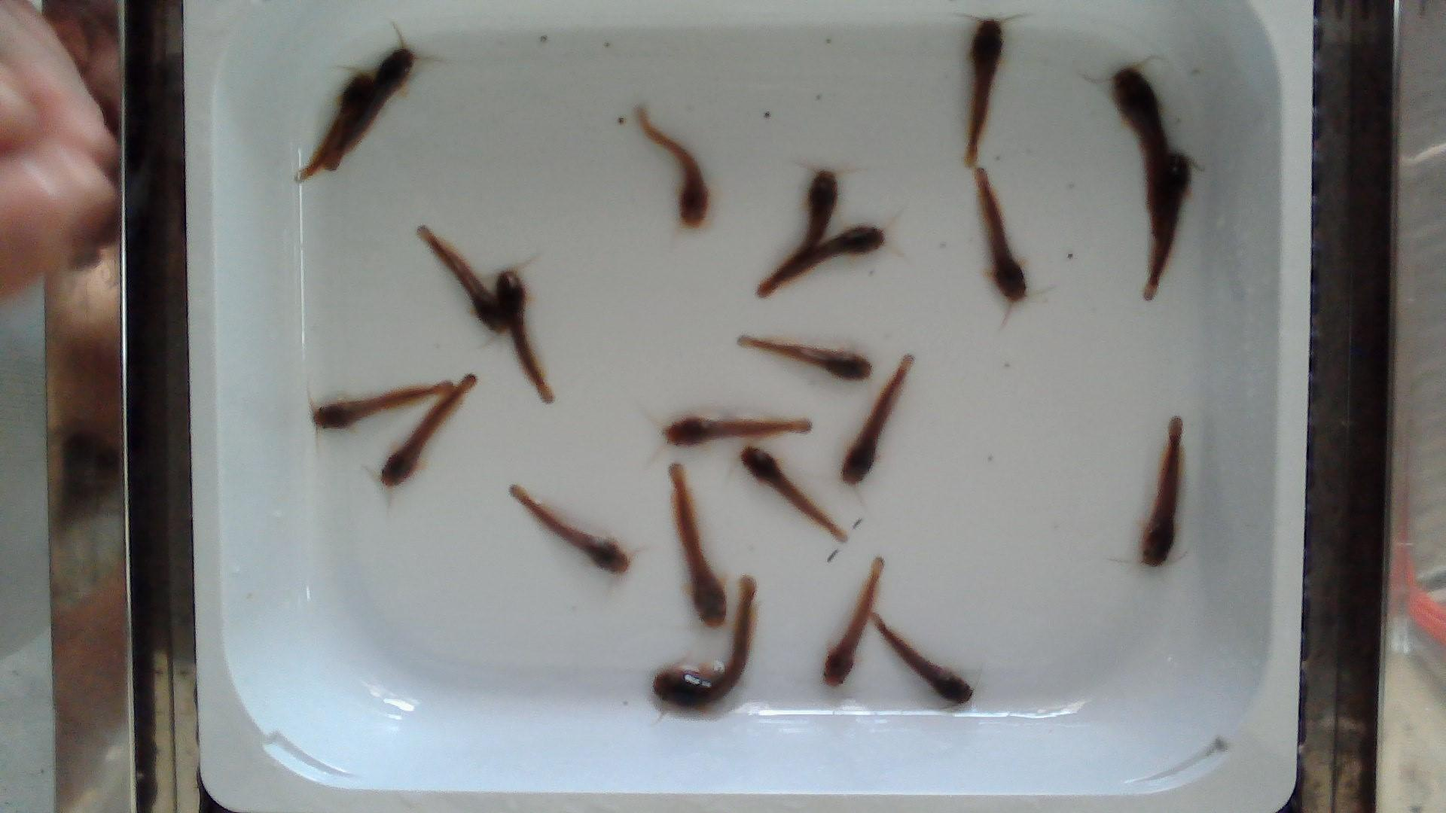lele: (653, 577, 755, 708), (322, 49, 413, 168), (510, 485, 629, 574), (756, 170, 838, 299), (380, 375, 475, 485), (416, 223, 510, 332), (740, 446, 845, 541), (1114, 66, 1170, 235), (669, 464, 726, 626), (842, 355, 913, 484), (636, 106, 709, 227), (873, 614, 972, 703), (297, 75, 372, 181), (496, 269, 556, 401), (313, 380, 474, 428), (823, 558, 883, 686), (975, 167, 1026, 302), (1142, 155, 1189, 301), (1140, 417, 1183, 566), (779, 224, 884, 284), (737, 336, 871, 380), (965, 20, 1002, 166), (664, 416, 811, 446)
